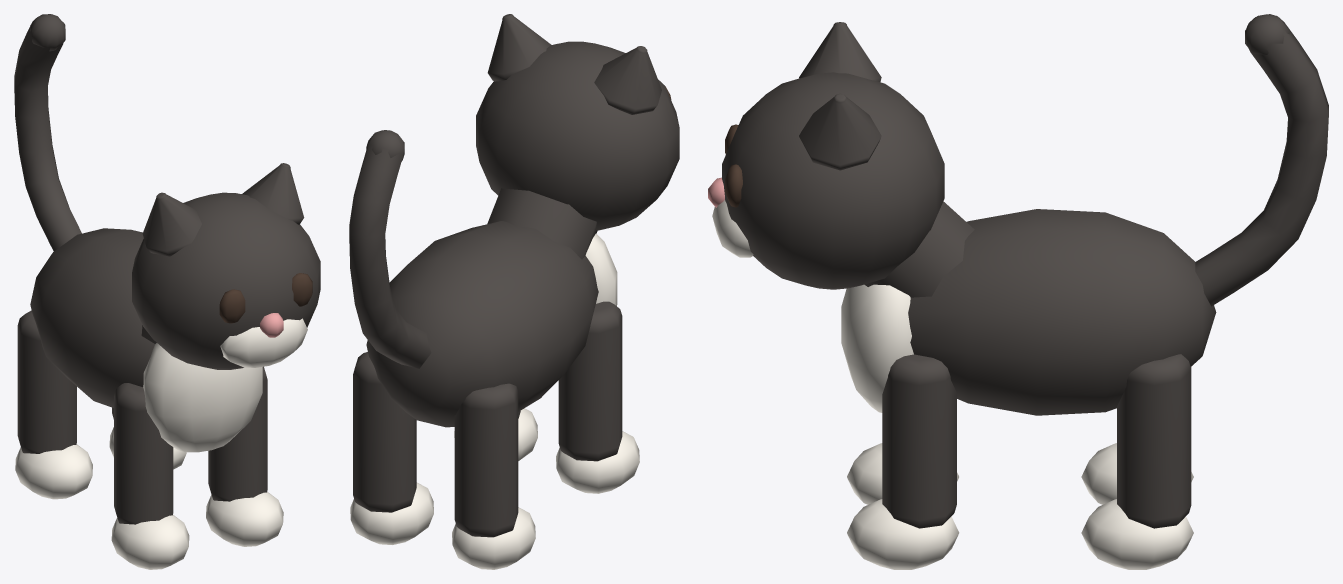
The model's file is pet_cat_tuxedo.glb.
3 views of the same model, side by side, from view 1: azimuth 30°, elevation 25°; view 2: azimuth 150°, elevation 25°; view 3: azimuth 270°, elevation 25° (orthographic). The views are drawn at different scales.
Visible parts, largest first — view 1: pet_cat_tuxedo_Head_mesh, pet_cat_tuxedo_mesh, pet_cat_tuxedo_LegFL_mesh, pet_cat_tuxedo_LegBL_mesh, pet_cat_tuxedo_Tail_mesh, pet_cat_tuxedo_LegFR_mesh; view 2: pet_cat_tuxedo_Head_mesh, pet_cat_tuxedo_mesh, pet_cat_tuxedo_LegBL_mesh, pet_cat_tuxedo_LegFL_mesh, pet_cat_tuxedo_LegBR_mesh, pet_cat_tuxedo_Tail_mesh, pet_cat_tuxedo_LegFR_mesh; view 3: pet_cat_tuxedo_mesh, pet_cat_tuxedo_Head_mesh, pet_cat_tuxedo_LegFR_mesh, pet_cat_tuxedo_LegBR_mesh, pet_cat_tuxedo_Tail_mesh, pet_cat_tuxedo_LegFL_mesh, pet_cat_tuxedo_LegBL_mesh.
Part boxes in pixels (x1,y1,x2,y2): pet_cat_tuxedo_Head_mesh: (132,163,320,369); pet_cat_tuxedo_mesh: (30,228,262,452); pet_cat_tuxedo_LegFL_mesh: (111,383,189,569); pet_cat_tuxedo_LegBL_mesh: (15,310,92,499); pet_cat_tuxedo_Tail_mesh: (14,14,81,251); pet_cat_tuxedo_LegFR_mesh: (206,366,283,546); pet_cat_tuxedo_Head_mesh: (476,14,679,259); pet_cat_tuxedo_mesh: (366,221,617,427); pet_cat_tuxedo_LegBL_mesh: (452,383,535,569); pet_cat_tuxedo_LegFL_mesh: (556,301,639,493); pet_cat_tuxedo_LegBR_mesh: (350,352,433,544); pet_cat_tuxedo_Tail_mesh: (349,130,431,368); pet_cat_tuxedo_LegFR_mesh: (454,408,537,460); pet_cat_tuxedo_mesh: (841,209,1216,415); pet_cat_tuxedo_Head_mesh: (708,22,974,297); pet_cat_tuxedo_LegFR_mesh: (847,354,959,569); pet_cat_tuxedo_LegBR_mesh: (1081,354,1193,569); pet_cat_tuxedo_Tail_mesh: (1195,14,1328,306); pet_cat_tuxedo_LegFL_mesh: (847,443,958,504); pet_cat_tuxedo_LegBL_mesh: (1081,367,1193,504).
Size of the model in its own units: 0.1696 by 0.4165 by 0.45.
